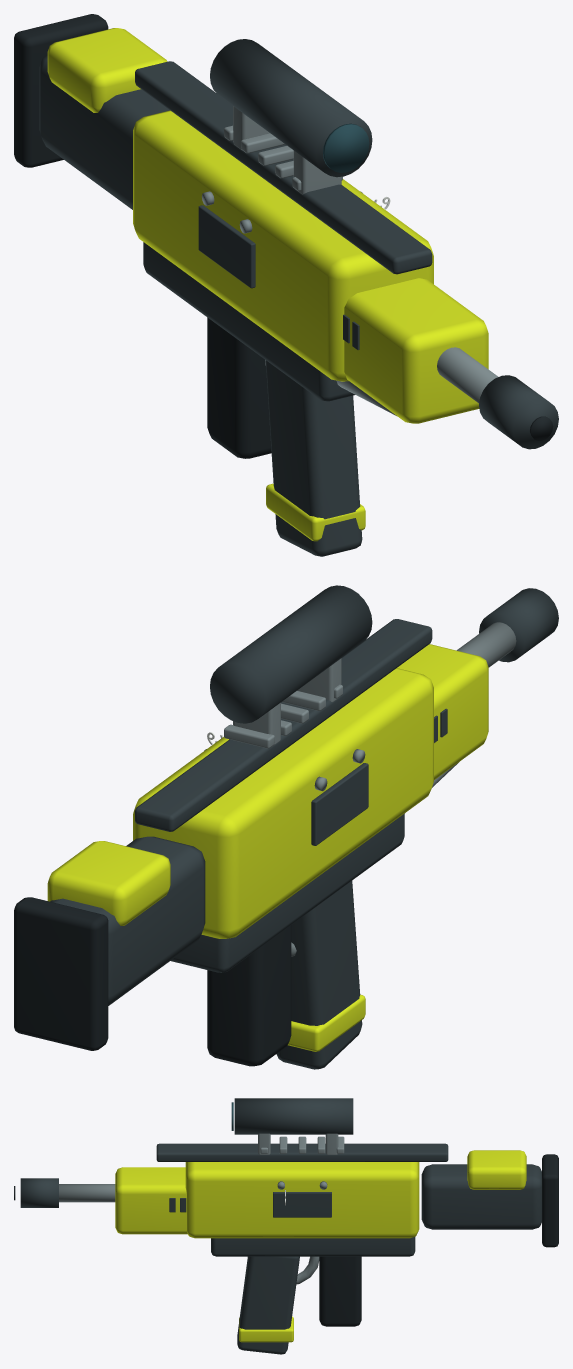
Rendered from longwatch_dmr_hazard.glb.
3 renders of one model, top to bottom at view 1: azimuth 30°, elevation 25°; view 2: azimuth 150°, elevation 25°; view 3: azimuth 270°, elevation 25°, orthographic. The views are drawn at different scales.
Visible parts, largest first — view 1: longwatch_dmr_hazard; view 2: longwatch_dmr_hazard; view 3: longwatch_dmr_hazard.
Part boxes in pixels (x1,y1,x2,y2): longwatch_dmr_hazard: (14,14,558,556); longwatch_dmr_hazard: (14,585,558,1069); longwatch_dmr_hazard: (14,1098,558,1354).
Bounding box in the file's own units: 0.2294 × 0.6525 × 1.29.
